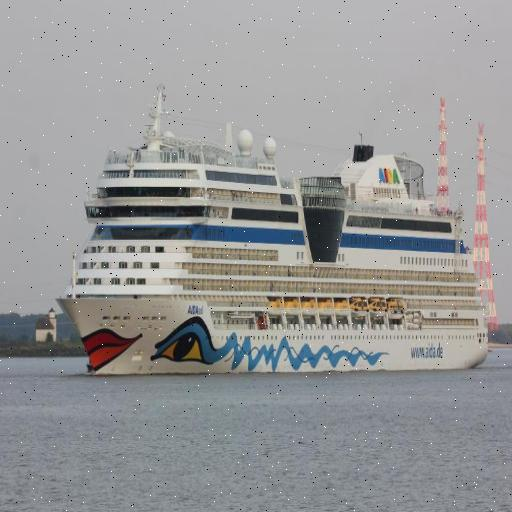cruises: (56, 93, 500, 382)
